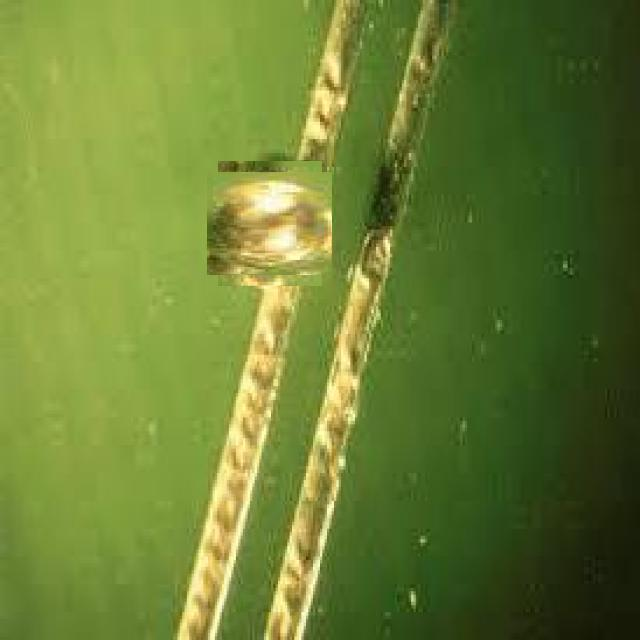redundant: (213, 166, 327, 281)
